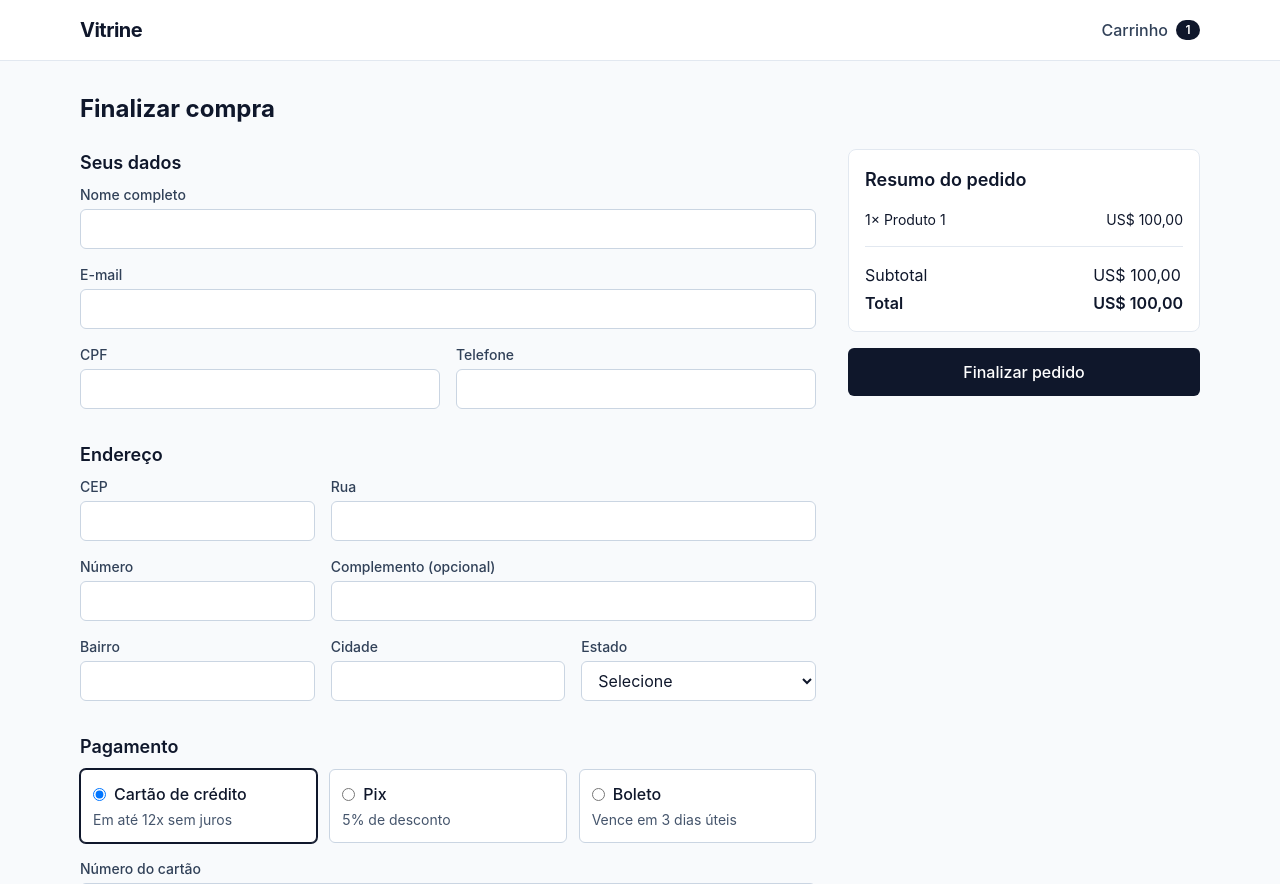
it: CheckoutPage › CPF recebe máscara
Check: the heading "Finalizar compra" is shown, box 80,94 -> 275,123
Type "52998224725" into the field labelled "CPF" at (260, 389), box 80,369 -> 440,409
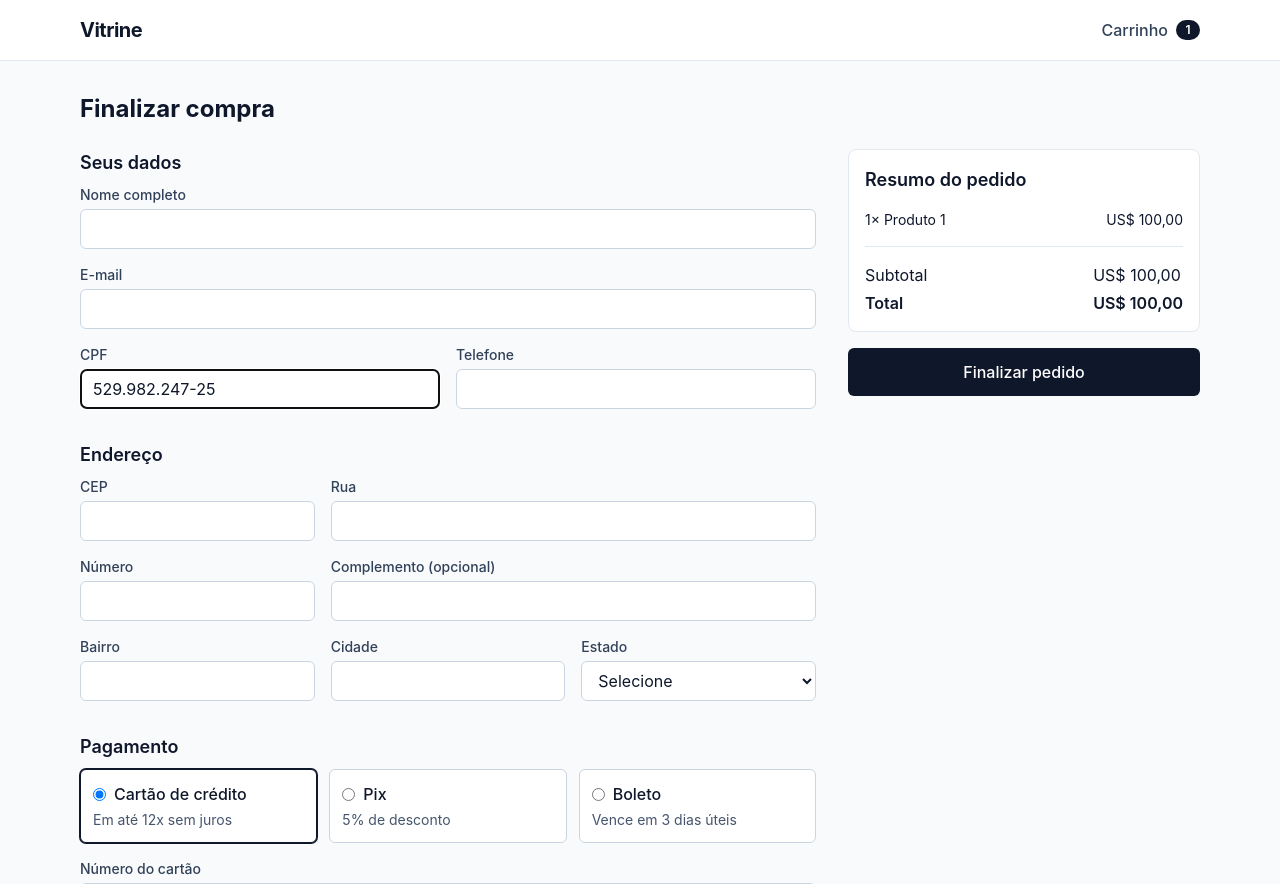
Check: the field labelled "CPF" holds "529.982.247-25", box 80,369 -> 440,409
